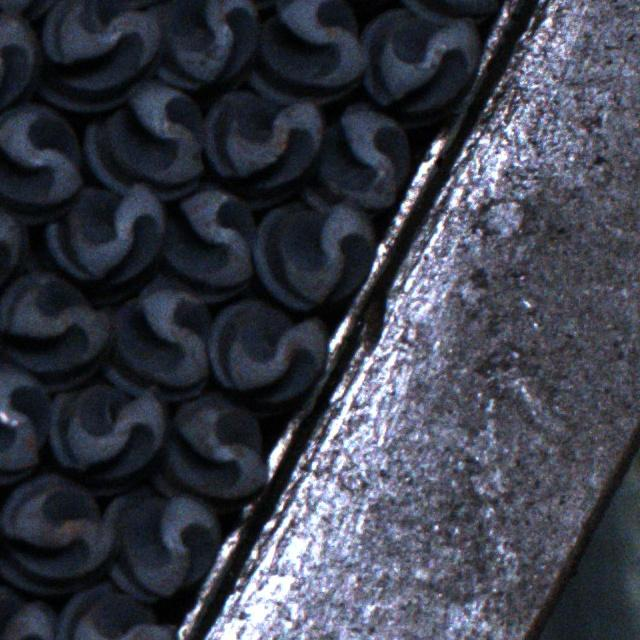tool_b: (0, 472, 121, 598), (83, 82, 208, 202), (207, 295, 326, 415), (45, 182, 164, 300), (38, 0, 164, 111), (204, 90, 322, 207), (361, 8, 477, 127), (101, 486, 219, 602), (105, 274, 213, 400), (0, 271, 115, 388), (252, 201, 374, 309), (50, 382, 166, 493), (150, 390, 266, 499), (247, 0, 366, 106), (300, 101, 411, 213), (159, 186, 260, 299), (0, 103, 86, 225), (152, 0, 256, 89), (56, 579, 172, 640), (0, 366, 54, 484)
